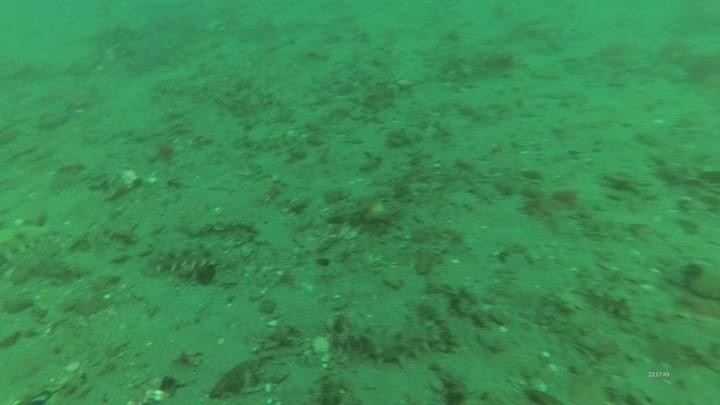holothurian: (335, 309, 446, 369), (141, 238, 221, 281), (576, 277, 637, 322), (0, 216, 52, 264)
